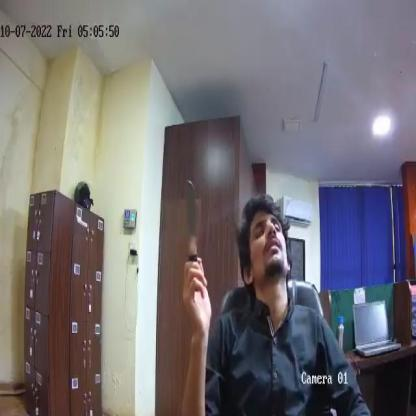Knife: (182, 172, 203, 274)
